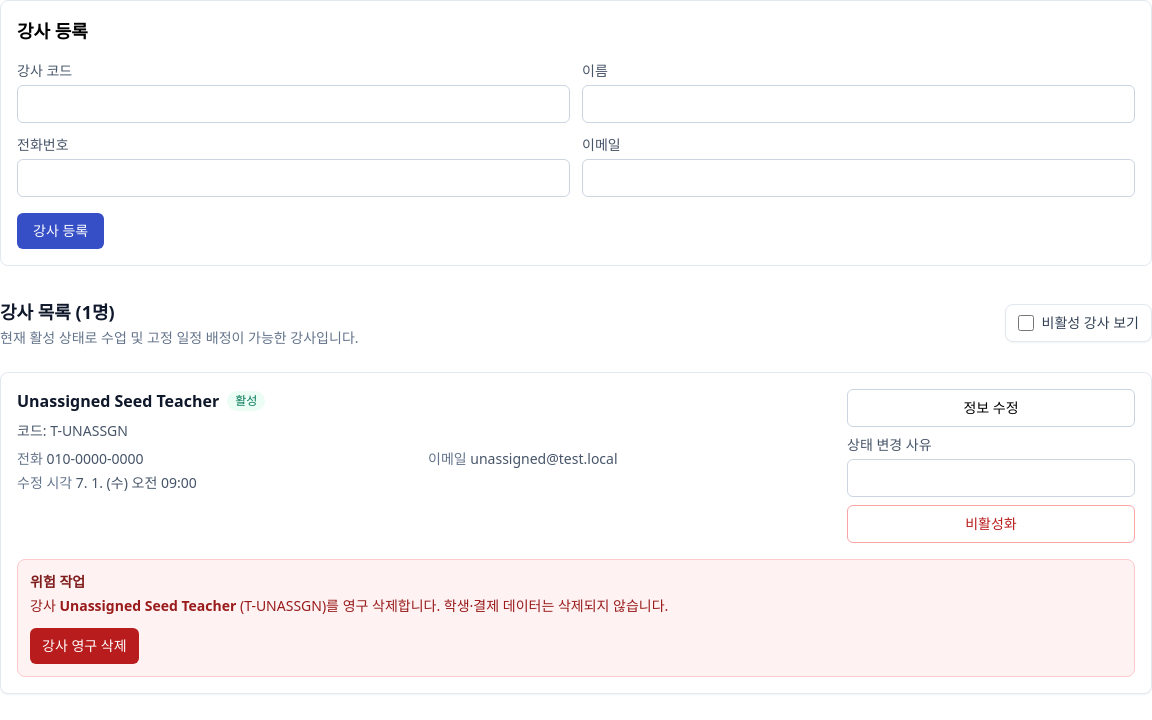
Test case: TeachersPanel › updates a teacher and closes the edit form
The image size is (1152, 720).
Click the button with test id "teacher-edit-T-UNASSGN".
click(991, 408)  # box [847,389,1135,427]
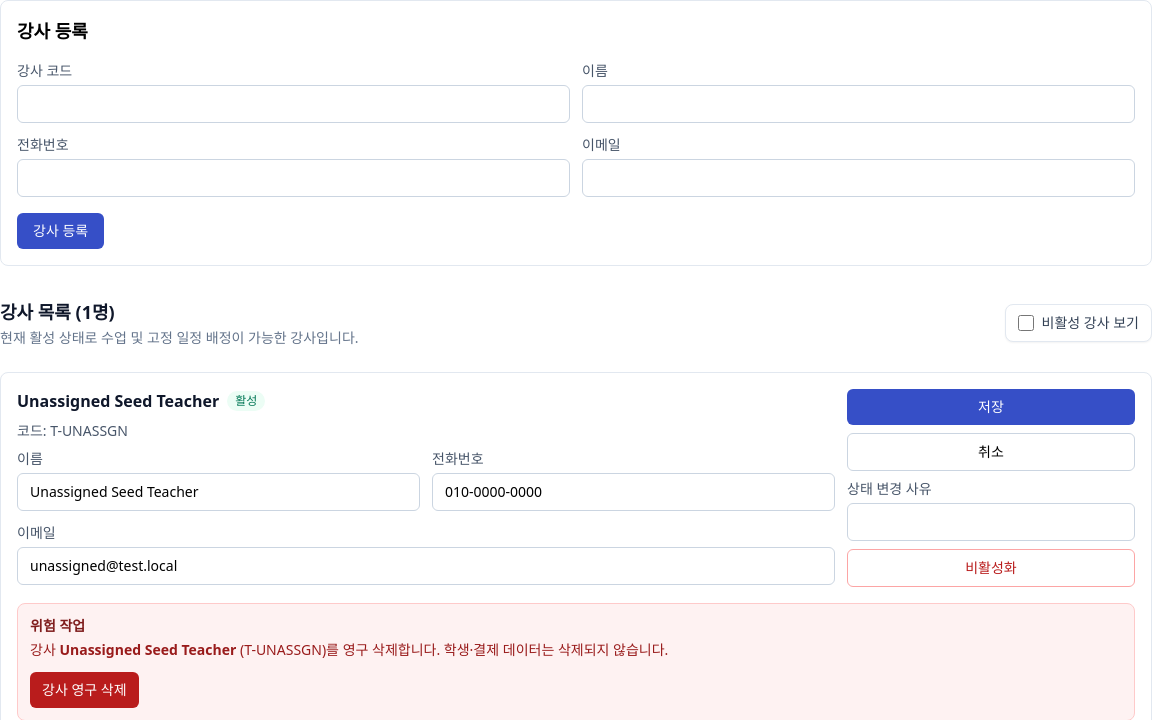
Replace the text in the field with test id "teacher-edit-name-T-UNASSGN" with "Renamed Teacher" at (218, 492), box [17,473,420,511]
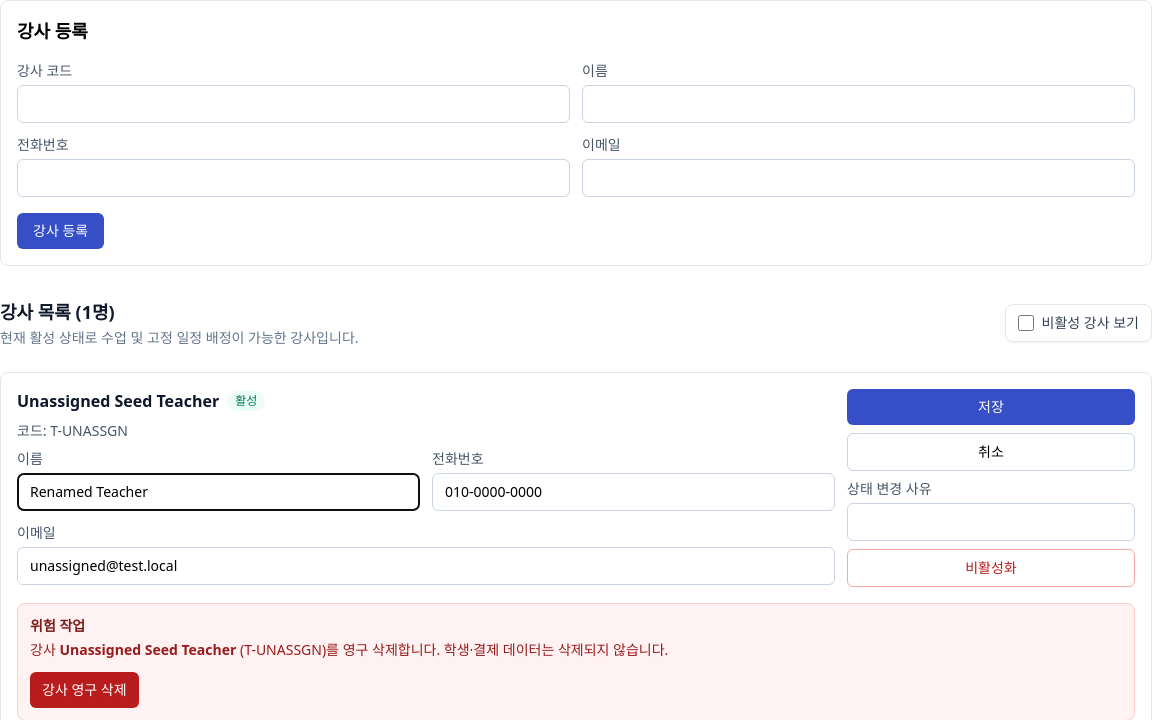
Click the button with test id "teacher-save-T-UNASSGN".
click(991, 407)  # box [847,389,1135,425]
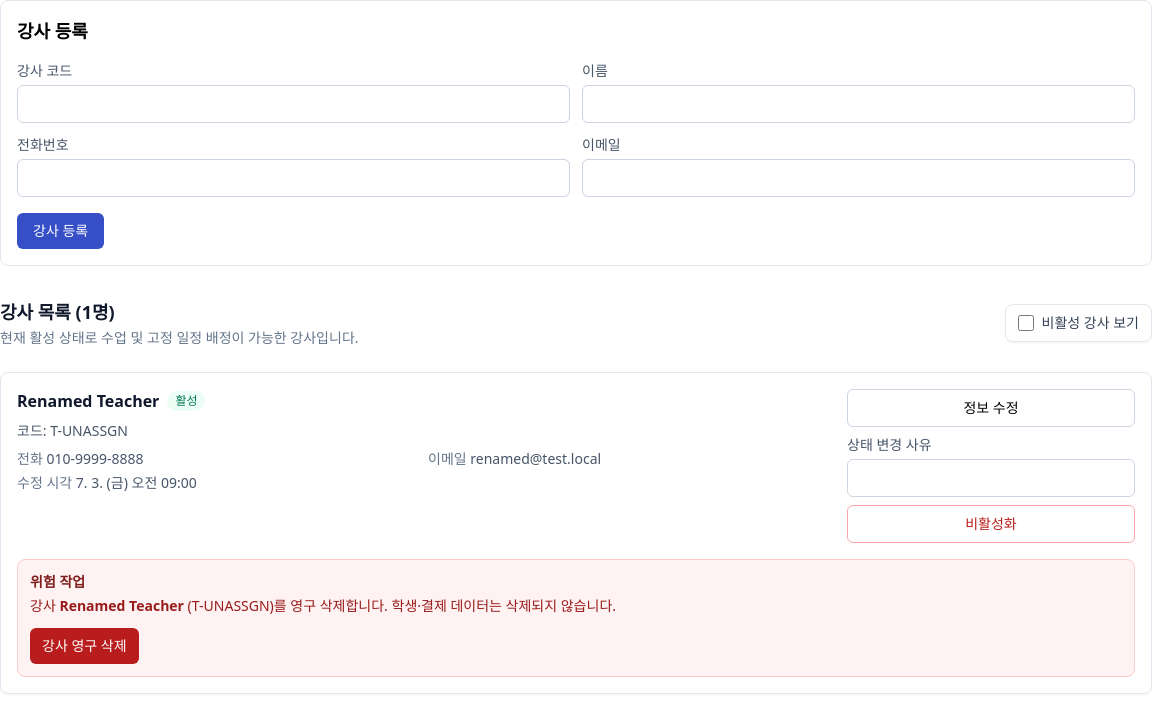
Now the heading "Renamed Teacher" is shown, box [17,389,159,413]
Now the button with test id "teacher-save-T-UNASSGN" is gone
